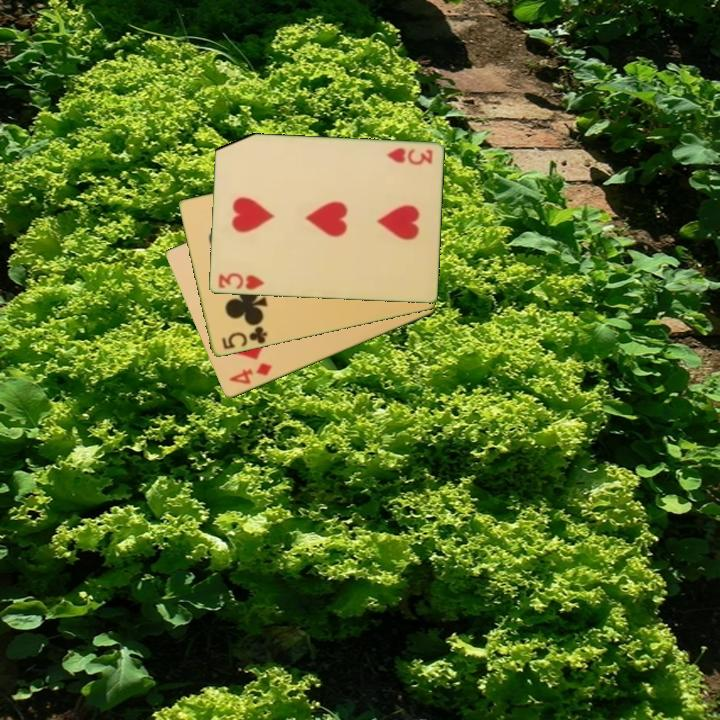3h: (214, 270, 267, 293), (383, 145, 435, 167)
4d: (225, 359, 275, 388)
5c: (218, 321, 270, 352)
